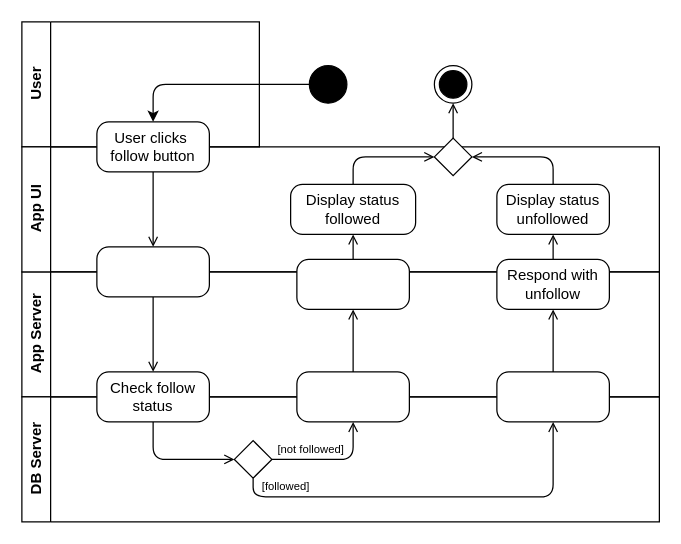
The diagram is 681 pixels wide and 544 high, and some of its shapes have lost their labels. Each missing label, with the centre of its shape:
Request to follow: the point at 152,271
Respond with follow: the point at 352,283
Update to follow: the point at 352,396
Update to unfollow: the point at 552,396
